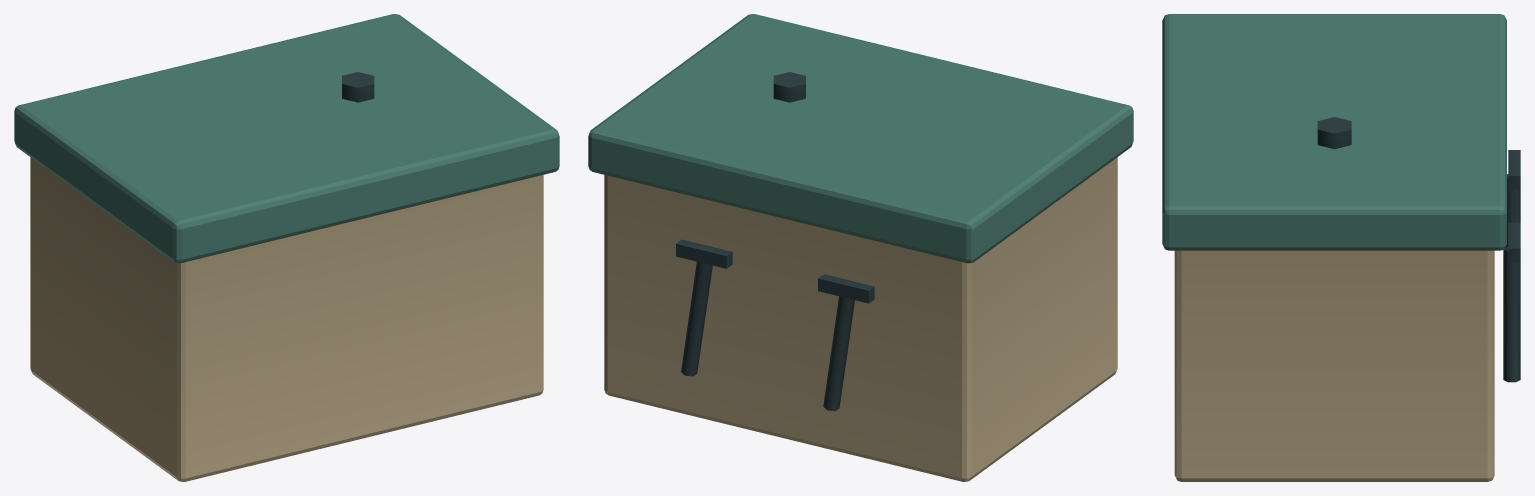
Rendered from nail_box.glb.
3 views of the same model, side by side, from view 1: azimuth 30°, elevation 25°; view 2: azimuth 150°, elevation 25°; view 3: azimuth 270°, elevation 25° (orthographic). The views are drawn at different scales.
Size of the model in its own units: 0.19 by 0.1355 by 0.1455.
